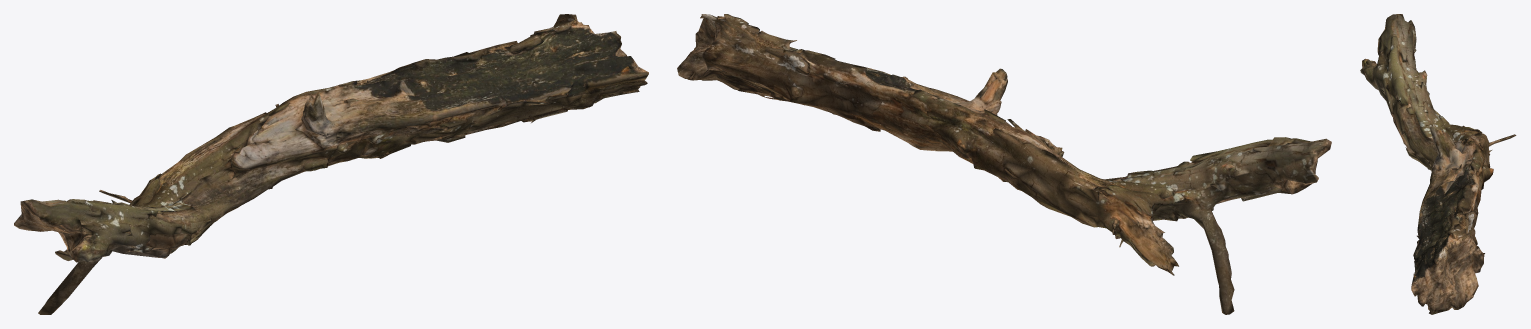
The model's file is dead_tree_trunk_02.glb.
3 views of the same model, side by side, from view 1: azimuth 30°, elevation 25°; view 2: azimuth 150°, elevation 25°; view 3: azimuth 270°, elevation 25° (orthographic). The views are drawn at different scales.
Parts seen in each view (by area): view 1: dead_tree_trunk_02; view 2: dead_tree_trunk_02; view 3: dead_tree_trunk_02.
Part boxes in pixels (<box>): dead_tree_trunk_02: <box>14,14,648,314</box>; dead_tree_trunk_02: <box>677,14,1331,314</box>; dead_tree_trunk_02: <box>1360,14,1516,314</box>.
Size of the model in its own units: 4.05 by 1.05 by 1.05.
Materials: 1 (1 with a texture image).
